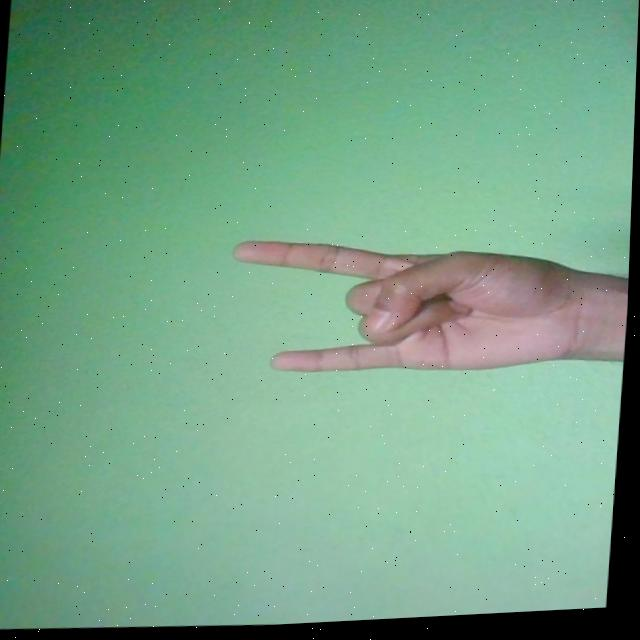Rock On: (226, 227, 607, 390)
